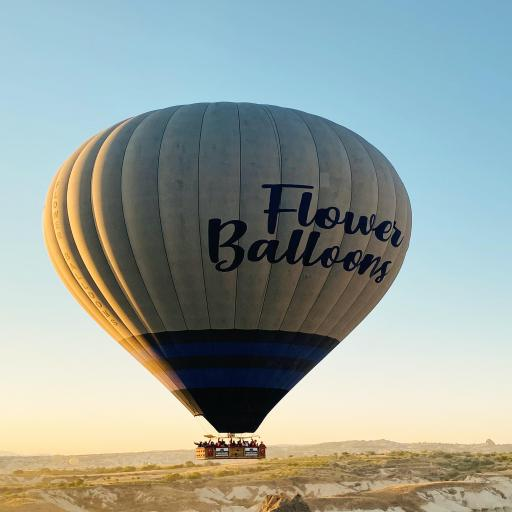hot air ballon: (44, 102, 416, 459)
